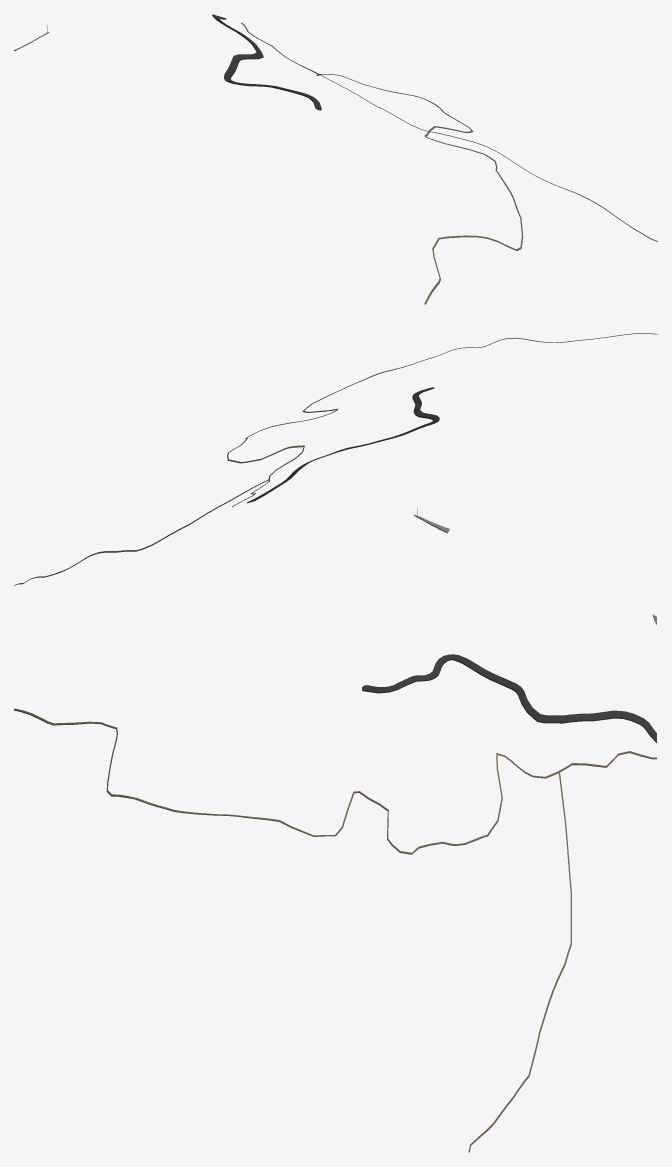
3 renders of one model, top to bottom at view 1: azimuth 30°, elevation 25°; view 2: azimuth 150°, elevation 25°; view 3: azimuth 270°, elevation 25°, orthographic. The views are drawn at different scales.
Bounding box in the file's own units: 586 × 280 × 584.
